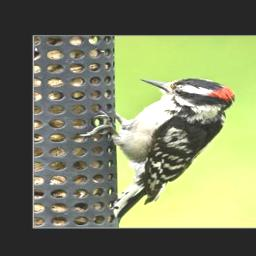Woodpecker: (84, 75, 234, 219)
